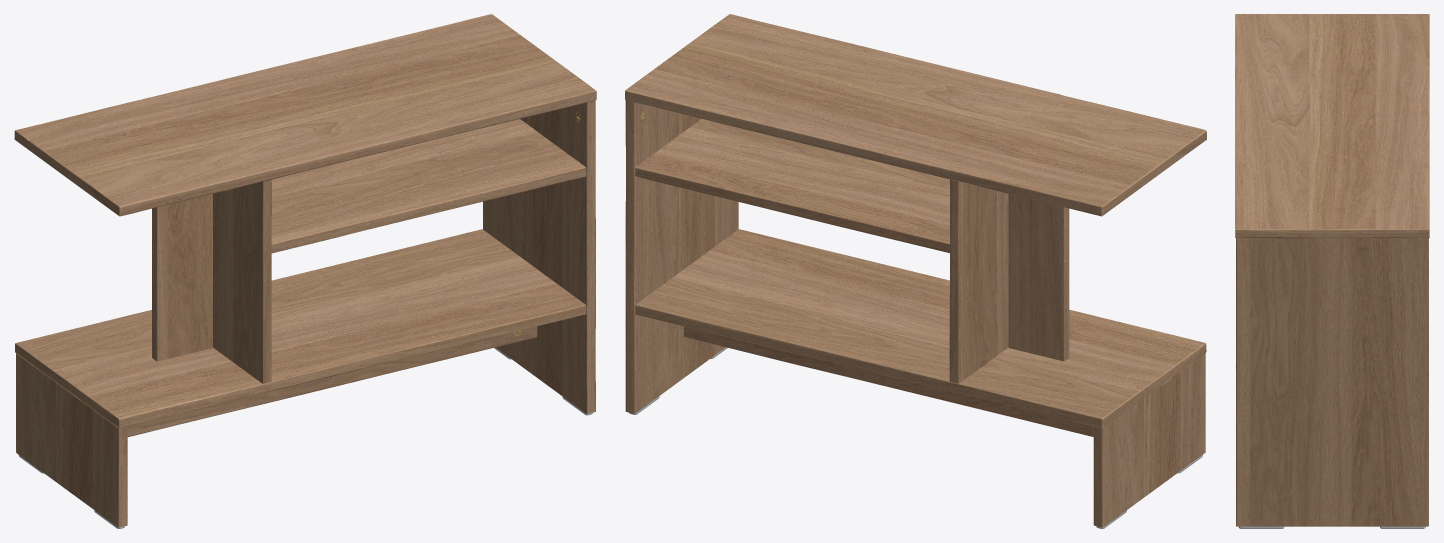
Rendered from holmerud_side_table_oak_effect.glb.
3 renders of one model, left to right at view 1: azimuth 30°, elevation 25°; view 2: azimuth 150°, elevation 25°; view 3: azimuth 270°, elevation 25°, orthographic. The views are drawn at different scales.
Parts seen in each view (by area): view 1: model; view 2: model; view 3: model.
Part boxes in pixels (left/top/right/bottom): model: left=14, top=14, right=596, bottom=528; model: left=625, top=14, right=1206, bottom=528; model: left=1235, top=14, right=1429, bottom=528.
Size of the model in its own units: 0.805 by 0.523 by 0.3071.
Materials: 1 (1 with a texture image).
